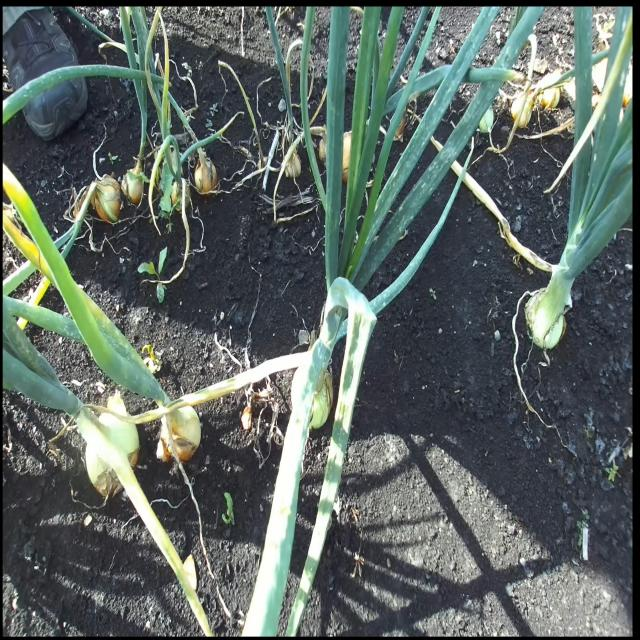onion: (76, 405, 140, 499), (157, 402, 201, 464), (318, 128, 352, 184), (92, 173, 122, 224), (309, 368, 333, 431), (120, 157, 148, 206), (194, 150, 218, 195)
